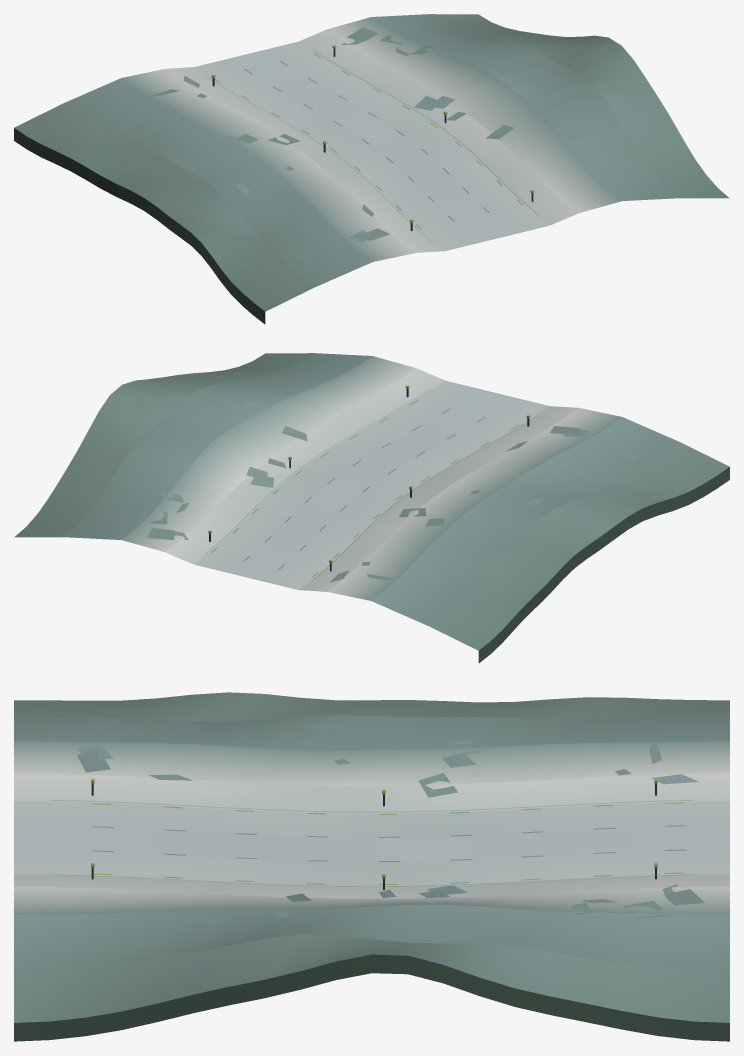
Rendered from 02-gentle_turn.glb.
3 views of the same model, one above another, from view 1: azimuth 30°, elevation 25°; view 2: azimuth 150°, elevation 25°; view 3: azimuth 270°, elevation 25° (orthographic). The views are drawn at different scales.
Parts seen in each view (by area): view 1: gentle_turn; view 2: gentle_turn; view 3: gentle_turn.
Boxes of the visible parts, x1,y1,x2,y2 form: gentle_turn: (14, 14, 729, 324); gentle_turn: (14, 353, 729, 663); gentle_turn: (14, 692, 729, 1041).
Bounding box in the file's own units: 33.2 × 4.58 × 30.
